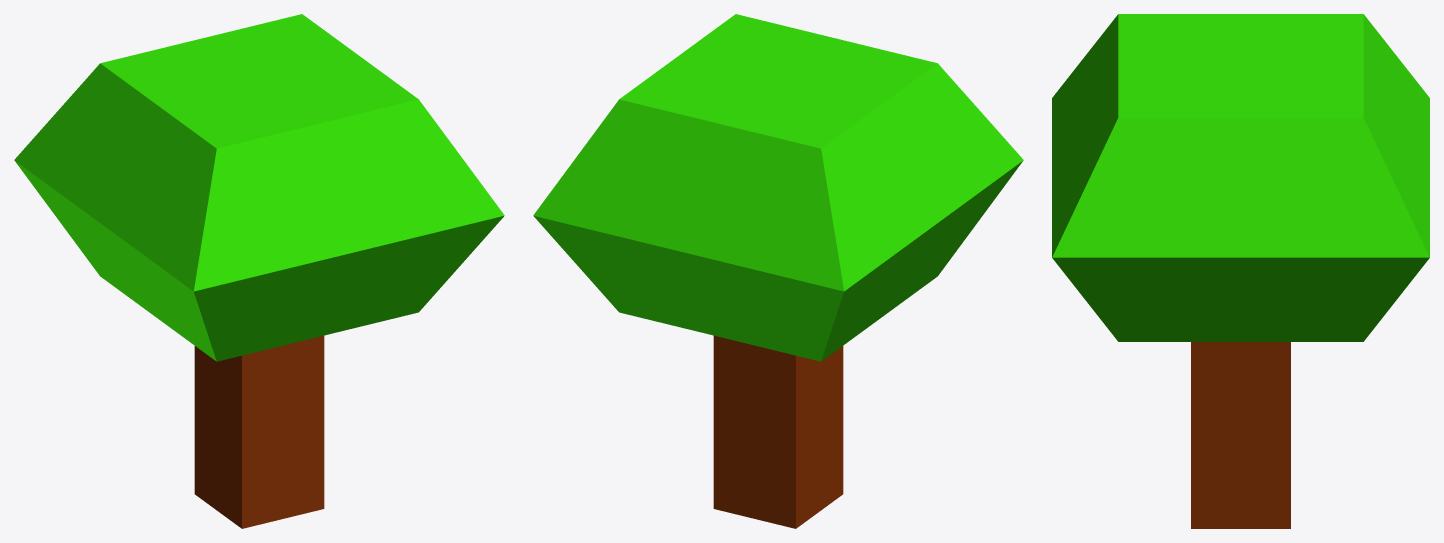
File: ARBOL.fbx
3 renders of one model, left to right at view 1: azimuth 30°, elevation 25°; view 2: azimuth 150°, elevation 25°; view 3: azimuth 270°, elevation 25°, orthographic. The views are drawn at different scales.
Visible parts, largest first — view 1: Cube.003; view 2: Cube.003; view 3: Cube.003.
Part boxes in pixels (box(x1,y1,x2,y2)): Cube.003: box(14, 14, 504, 528); Cube.003: box(533, 14, 1023, 528); Cube.003: box(1052, 14, 1429, 528).
Bounding box in the file's own units: 223 × 287 × 223.
